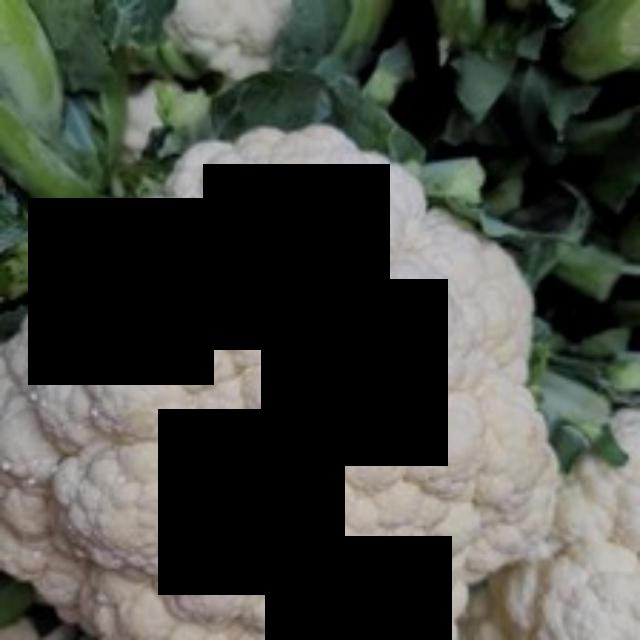cauliflower: (0, 116, 568, 637)
